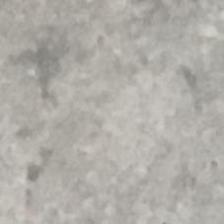Non_Crack: (11, 23, 224, 197)
